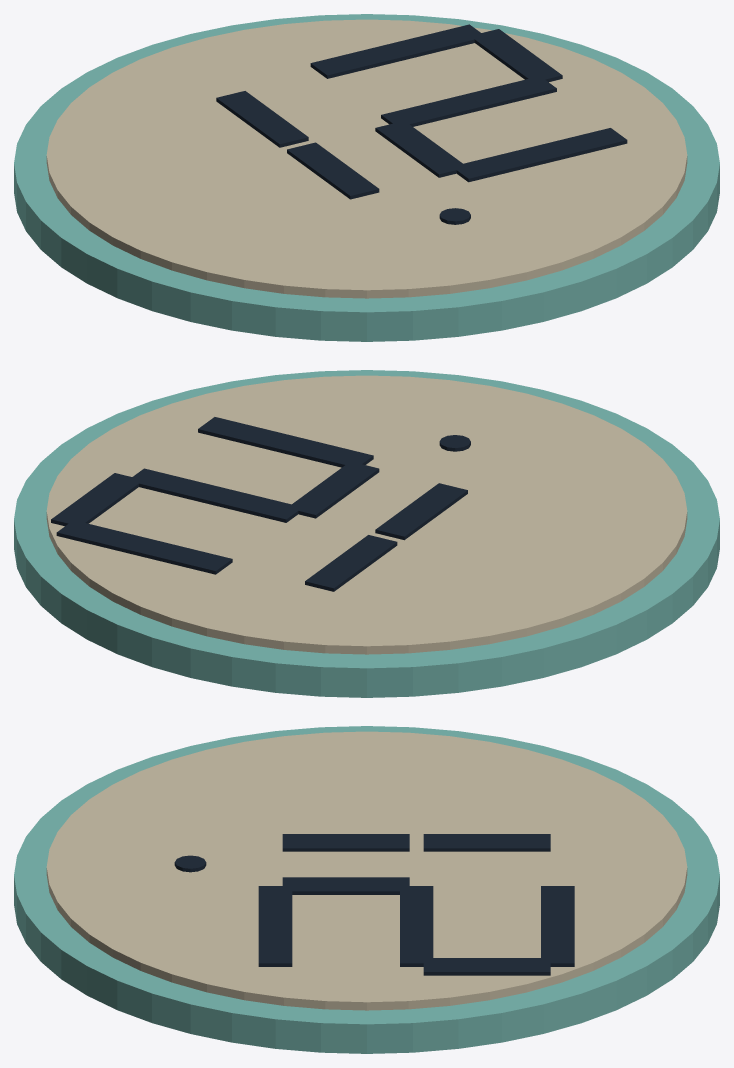
The model's file is space_number_12.glb.
3 renders of one model, top to bottom at view 1: azimuth 30°, elevation 25°; view 2: azimuth 150°, elevation 25°; view 3: azimuth 270°, elevation 25°, orthographic.
Visible parts, largest first — view 1: FixedDetails; view 2: FixedDetails; view 3: FixedDetails.
Part boxes in pixels (x1,y1,x2,y2): FixedDetails: (14,14,719,341); FixedDetails: (14,370,719,697); FixedDetails: (14,726,719,1053).
Size of the model in its own units: 0.54 by 0.036 by 0.54.
